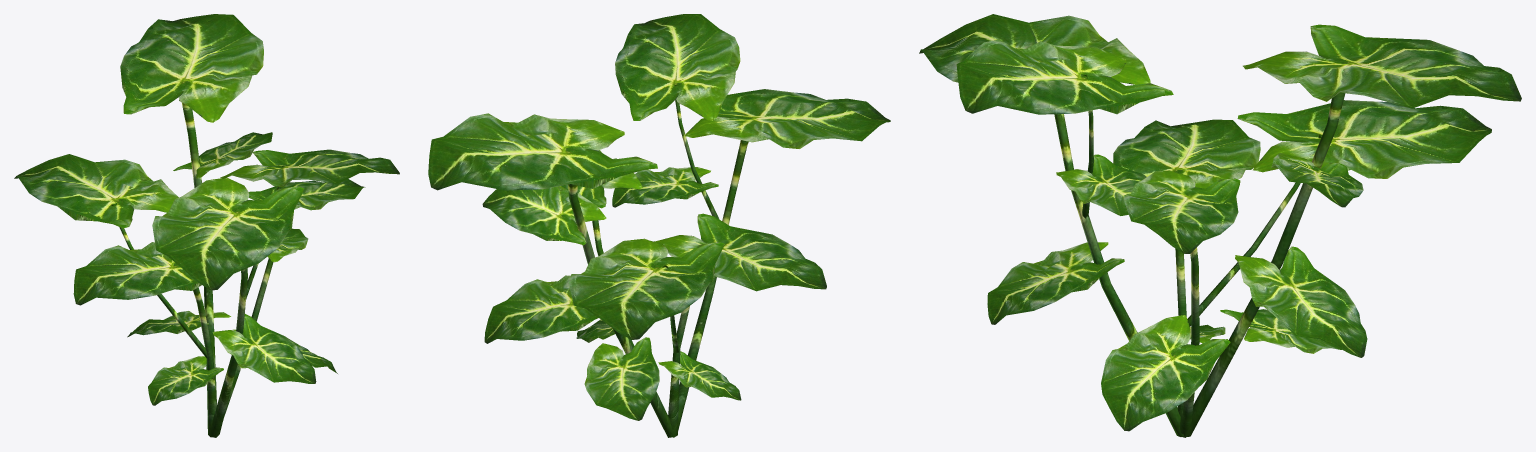
Rendered from Arrowhead4.fbx.
3 renders of one model, left to right at view 1: azimuth 30°, elevation 25°; view 2: azimuth 150°, elevation 25°; view 3: azimuth 270°, elevation 25°, orthographic. The views are drawn at different scales.
Parts seen in each view (by area): view 1: Arrowhead4; view 2: Arrowhead4; view 3: Arrowhead4.
Boxes of the visible parts, <box> form: Arrowhead4: <box>14,14,399,437</box>; Arrowhead4: <box>428,14,890,437</box>; Arrowhead4: <box>919,14,1521,437</box>.
Bounding box in the file's own units: 42.39 × 44.23 × 57.77.
1 material, 1 textured.
